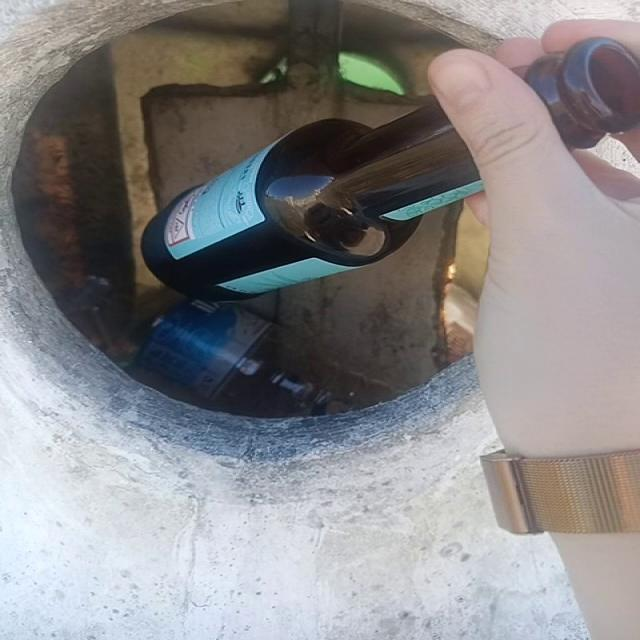glass: (140, 102, 483, 300), (525, 37, 639, 148)
